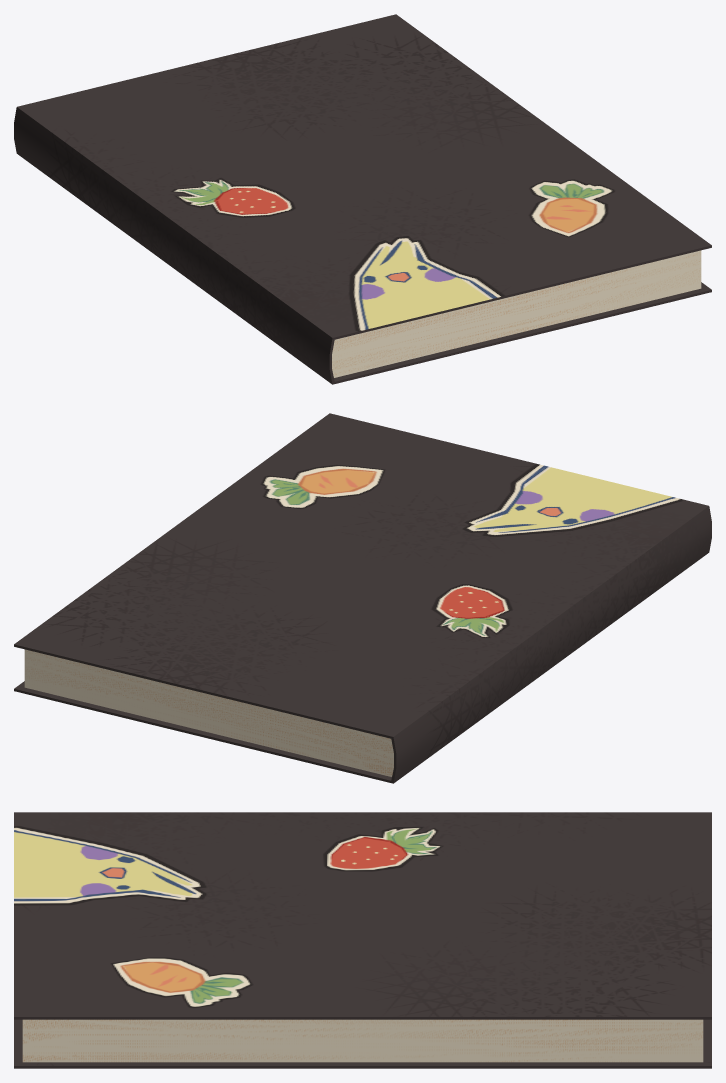
File: sketchbook.fbx
3 renders of one model, top to bottom at view 1: azimuth 30°, elevation 25°; view 2: azimuth 150°, elevation 25°; view 3: azimuth 270°, elevation 25°, orthographic. The views are drawn at different scales.
Visible parts, largest first — view 1: Book_13; view 2: Book_13; view 3: Book_13.
Boxes of the visible parts, x1,y1,x2,y2 form: Book_13: (14,14,711,384); Book_13: (14,413,711,783); Book_13: (14,812,711,1068).
Bounding box in the file's own units: 1712 × 200 × 2450.
Materials: 1 (1 with a texture image).
